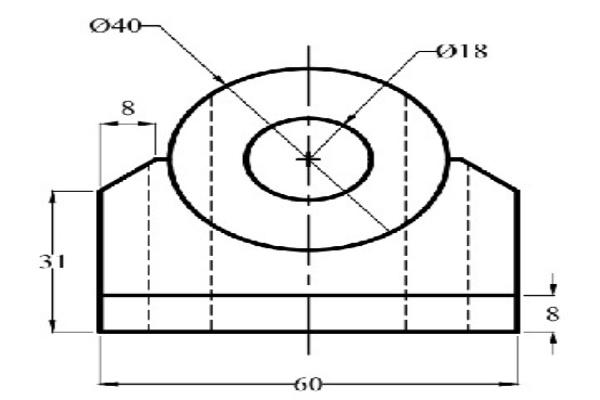dimensions: (435, 37, 497, 66), (86, 12, 146, 39), (34, 249, 73, 274), (111, 92, 143, 121), (291, 372, 328, 395), (543, 304, 566, 328)
